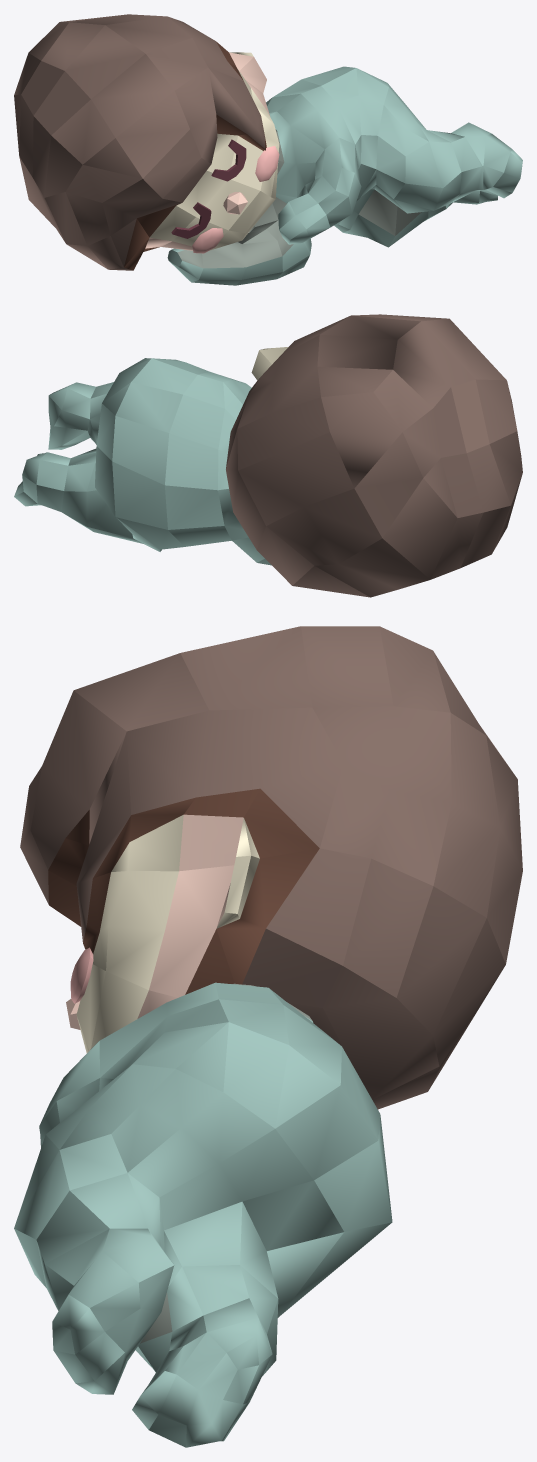
Rendered from S_Kid.fbx.
3 renders of one model, top to bottom at view 1: azimuth 30°, elevation 25°; view 2: azimuth 150°, elevation 25°; view 3: azimuth 270°, elevation 25°, orthographic. The views are drawn at different scales.
Parts seen in each view (by area): view 1: S_Kid; view 2: S_Kid; view 3: S_Kid.
Part boxes in pixels (x1,y1,x2,y2): S_Kid: (14, 14, 522, 285); S_Kid: (14, 314, 522, 597); S_Kid: (14, 626, 522, 1447).
Size of the model in its own units: 81.8 by 45.6 by 41.47.
